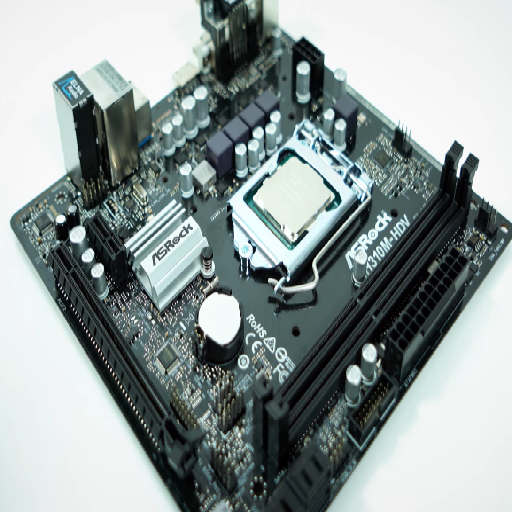CPU: (224, 117, 372, 309)
GPU: (50, 244, 206, 488)
MOTHERBOARD: (7, 5, 512, 511)
RAM: (251, 141, 476, 473)
